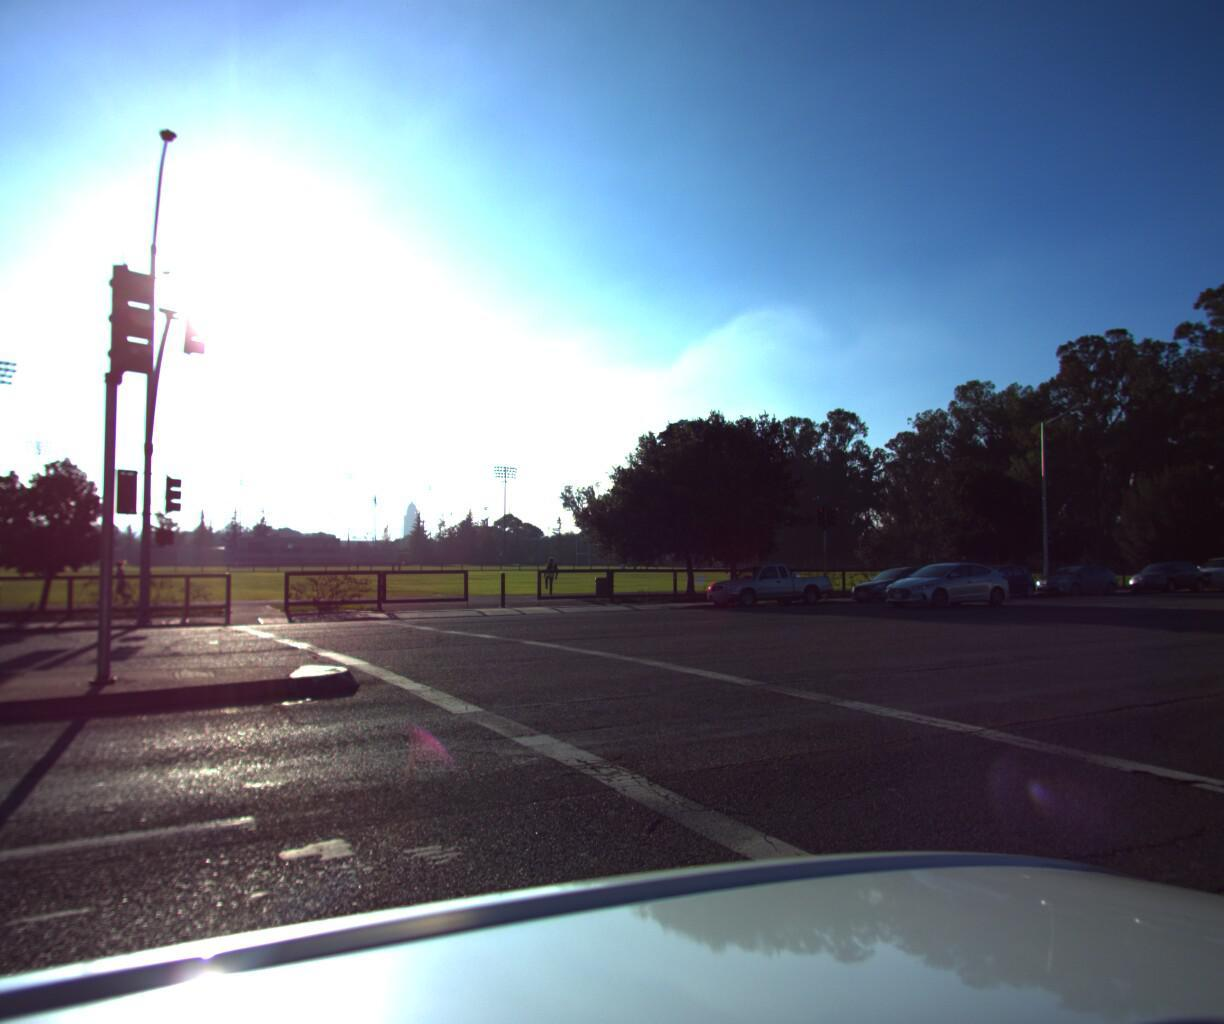car: (694, 558, 836, 606), (870, 557, 1008, 605), (841, 561, 953, 602), (943, 559, 1035, 598), (1023, 557, 1117, 592), (1114, 553, 1202, 588), (1174, 548, 1224, 589)
